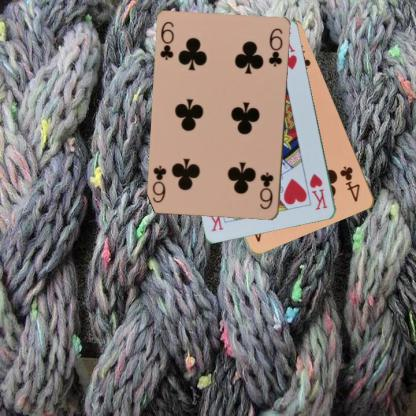4c: (337, 164, 362, 204)
6c: (158, 19, 176, 62), (257, 170, 275, 211)
Kh: (307, 171, 329, 211)
